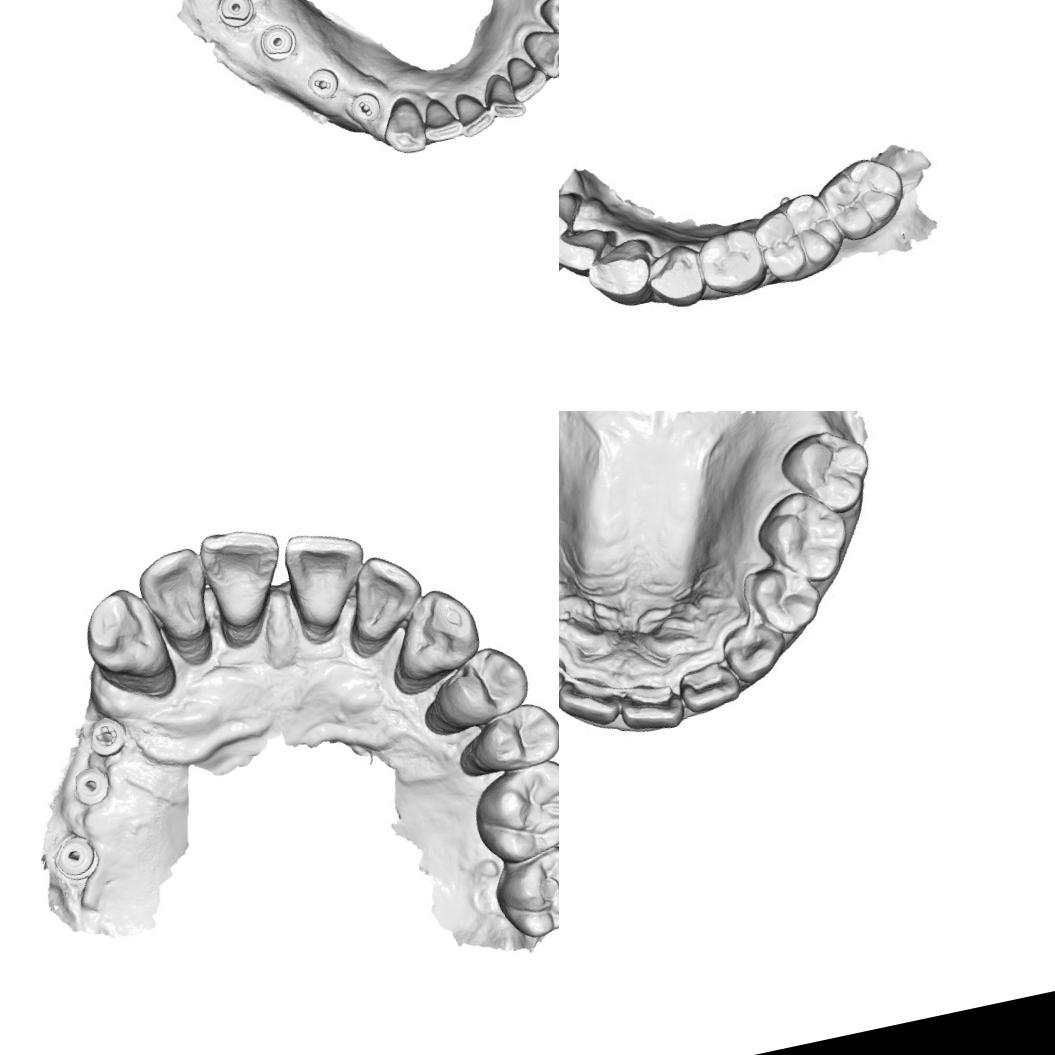canine: (77, 582, 172, 686), (392, 580, 486, 682), (718, 614, 793, 688), (588, 235, 658, 303), (376, 96, 430, 161), (518, 22, 559, 85)
implant: (68, 762, 121, 818), (48, 830, 103, 883), (256, 21, 300, 65), (213, 0, 258, 33)
implant_minus: (344, 87, 384, 126), (304, 65, 342, 103)
implant_plus: (84, 712, 128, 765)
incisor: (277, 520, 376, 630), (195, 520, 292, 628), (336, 545, 430, 643), (132, 546, 216, 648), (559, 667, 626, 737), (614, 676, 688, 738), (559, 218, 625, 278), (675, 658, 743, 716), (502, 51, 552, 106), (417, 92, 466, 146), (452, 86, 498, 140), (482, 71, 528, 124)
molar: (752, 482, 856, 590), (774, 421, 879, 524), (462, 757, 559, 867), (754, 190, 846, 280), (817, 156, 911, 243), (488, 840, 559, 945)
premolar: (427, 639, 532, 731), (465, 693, 559, 779), (744, 556, 826, 642), (693, 225, 773, 304), (642, 243, 711, 314), (534, 0, 559, 45)
